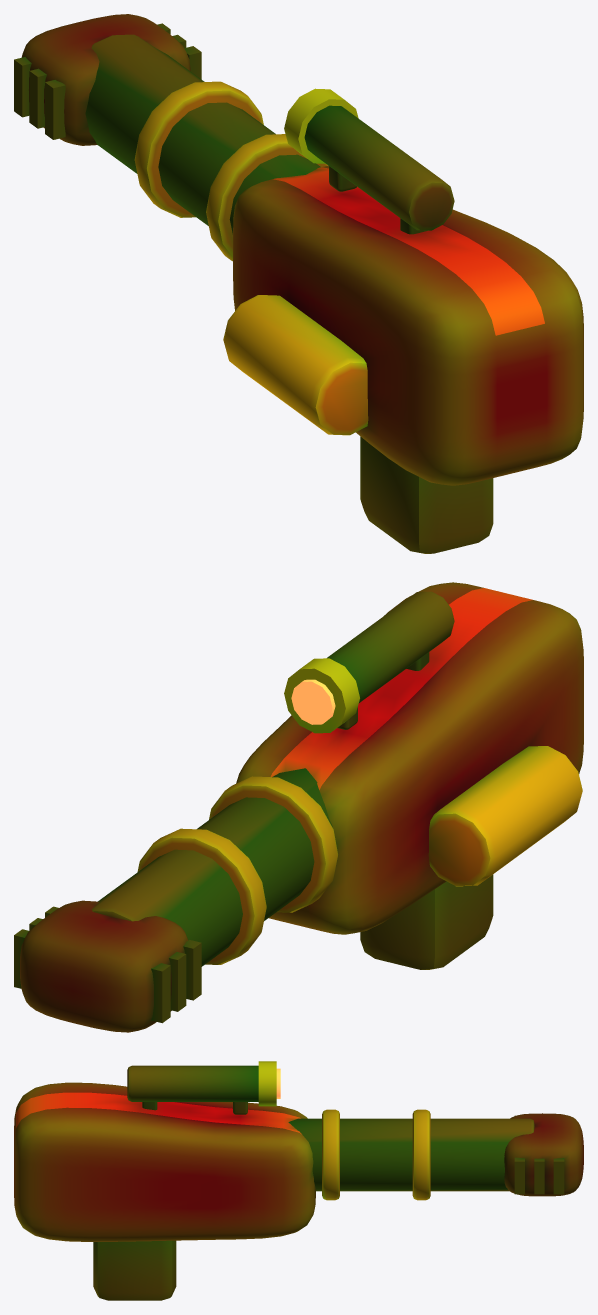
Rendered from titan_weapon_tracker.glb.
3 renders of one model, top to bottom at view 1: azimuth 30°, elevation 25°; view 2: azimuth 150°, elevation 25°; view 3: azimuth 270°, elevation 25°, orthographic. The views are drawn at different scales.
Visible parts, largest first — view 1: Body; view 2: Body, Glow; view 3: Body.
Part boxes in pixels (x1,y1,x2,y2): Body: (14, 14, 583, 553); Body: (14, 582, 583, 1032); Glow: (291, 679, 335, 724); Body: (14, 1061, 583, 1300).
Size of the model in its own units: 1.06 by 1.68 by 3.78.
